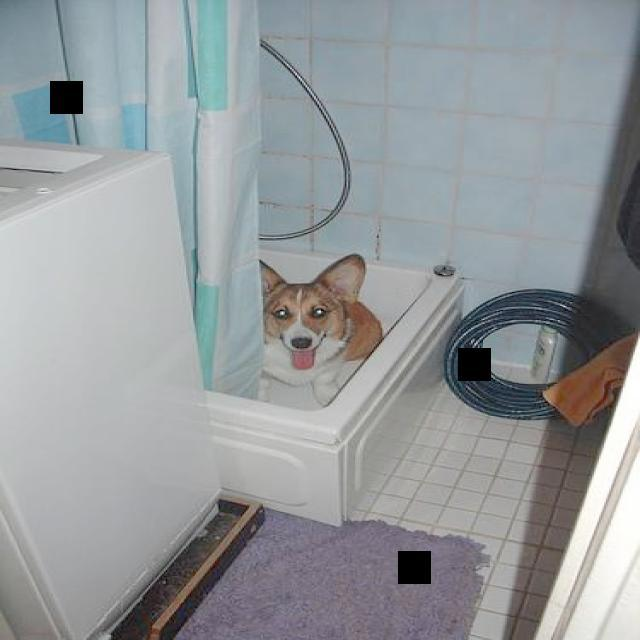adult_dog: (256, 252, 387, 410)
